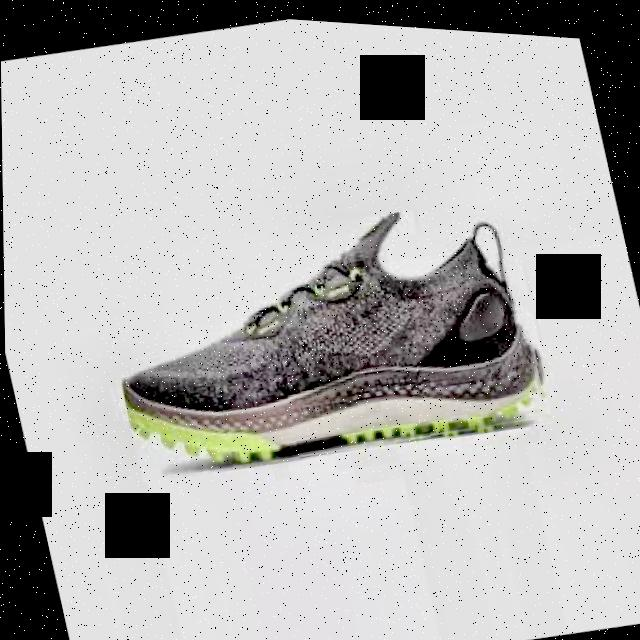shoe: (90, 167, 556, 502)
